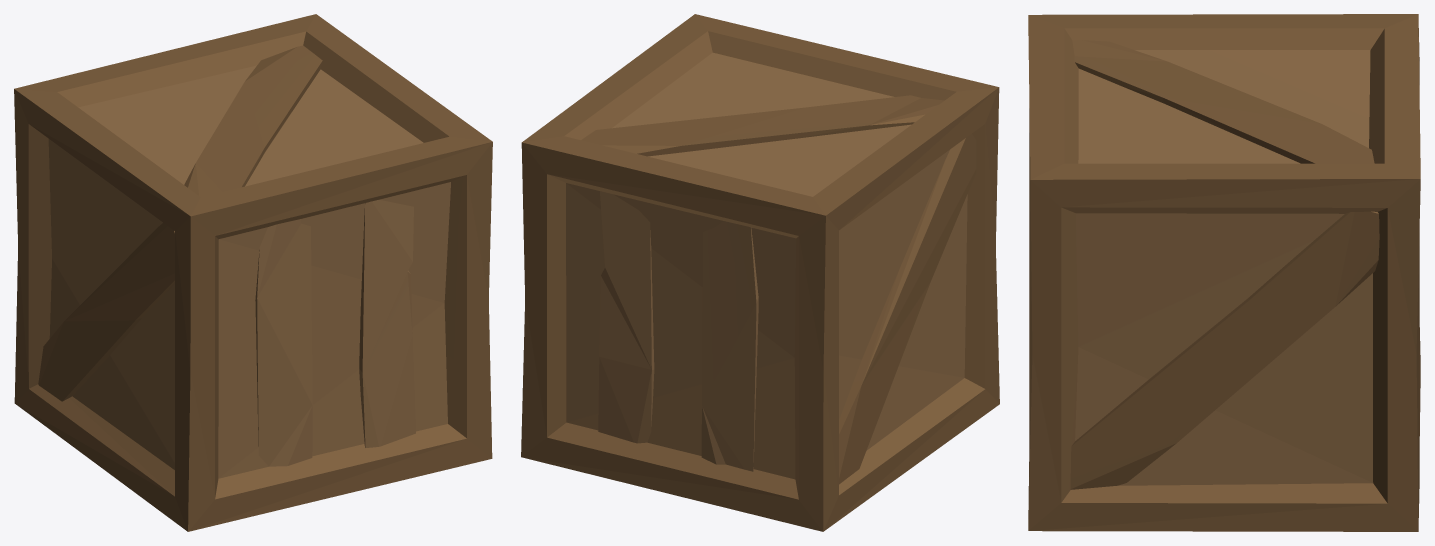
3 renders of one model, left to right at view 1: azimuth 30°, elevation 25°; view 2: azimuth 150°, elevation 25°; view 3: azimuth 270°, elevation 25°, orthographic. The views are drawn at different scales.
Visible parts, largest first — view 1: Box_03; view 2: Box_03; view 3: Box_03.
Part boxes in pixels (x1=…): Box_03: x1=14, y1=14, x2=492, y2=531; Box_03: x1=521, y1=14, x2=999, y2=531; Box_03: x1=1028, y1=14, x2=1420, y2=531.
Size of the model in its own units: 0.9129 by 0.9087 by 0.9131.
Materials: 1 (1 with a texture image).
